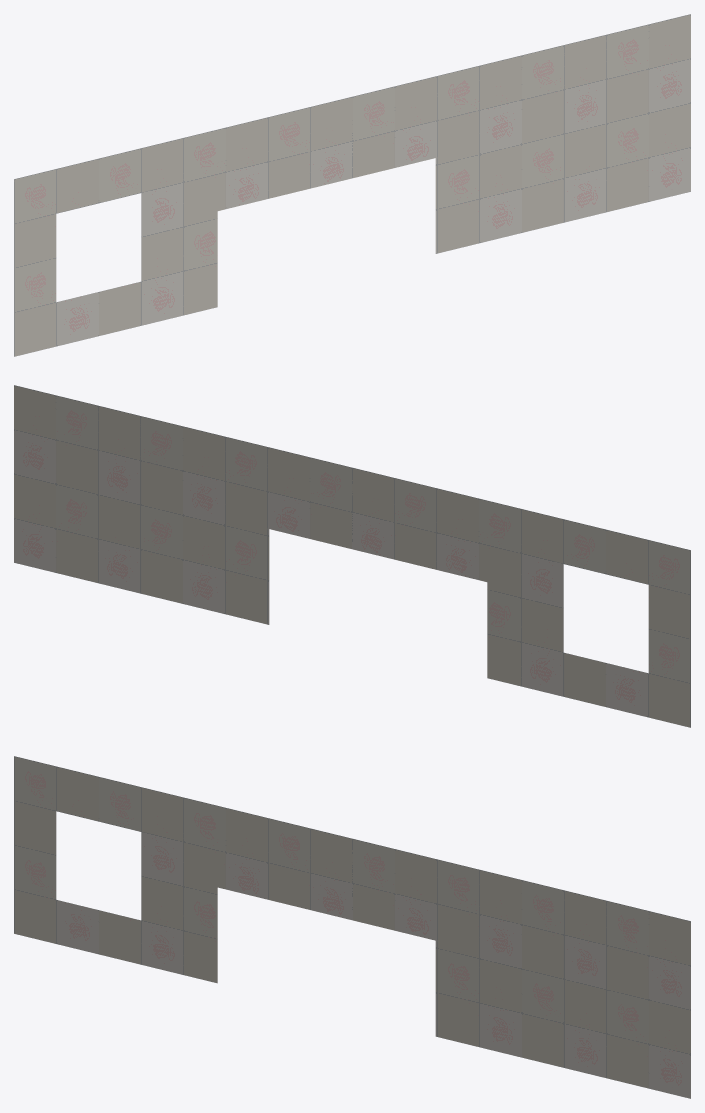
File: kd_stage_135d18_4_112_bounded_piece_0.glb
3 views of the same model, one above another, from view 1: azimuth 30°, elevation 25°; view 2: azimuth 150°, elevation 25°; view 3: azimuth 330°, elevation 25° (orthographic).
Visible parts, largest first — view 1: kd_stage_135d18_4_112_bounded_piece_0; view 2: kd_stage_135d18_4_112_bounded_piece_0; view 3: kd_stage_135d18_4_112_bounded_piece_0.
Boxes of the visible parts, x1=… form: kd_stage_135d18_4_112_bounded_piece_0: x1=14, y1=14, x2=690, y2=356; kd_stage_135d18_4_112_bounded_piece_0: x1=14, y1=385, x2=690, y2=727; kd_stage_135d18_4_112_bounded_piece_0: x1=14, y1=756, x2=690, y2=1098.
Bounding box in the file's own units: 3.19 × 0.799 × 4.77e-07.
Materials: 1 (1 with a texture image).
